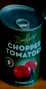tomatoes: (1, 4, 44, 89)
